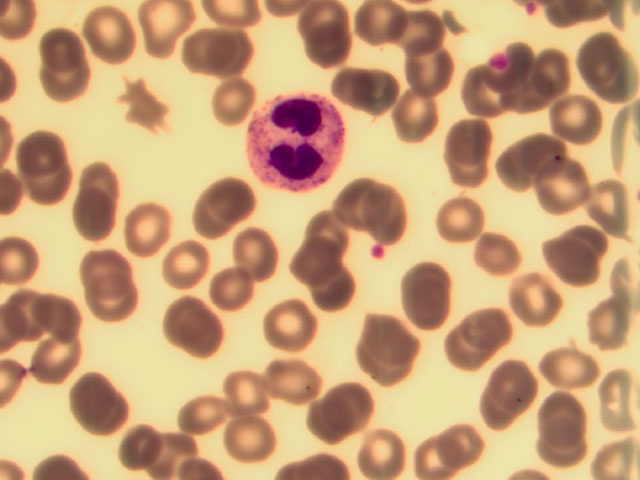Platelets: (369, 242, 385, 262)
RBC: (64, 150, 128, 213), (118, 196, 182, 259), (198, 170, 262, 233), (177, 191, 241, 254), (185, 75, 249, 138), (159, 22, 223, 85), (200, 19, 264, 82), (295, 2, 359, 65), (318, 45, 382, 108), (382, 86, 446, 149), (392, 39, 456, 102), (445, 66, 509, 129), (475, 37, 539, 100), (521, 42, 585, 105), (544, 91, 608, 154), (502, 125, 566, 188), (532, 150, 596, 213), (437, 123, 501, 186), (431, 194, 495, 257), (469, 218, 533, 281), (505, 273, 569, 336), (544, 231, 608, 294), (576, 308, 640, 371), (538, 335, 602, 398), (493, 345, 557, 408), (476, 377, 540, 440), (534, 385, 598, 448), (404, 268, 468, 331), (441, 292, 505, 355), (360, 310, 424, 373), (354, 176, 418, 239), (328, 177, 392, 240), (294, 199, 358, 262), (300, 258, 364, 321), (262, 295, 326, 358), (222, 218, 286, 281), (212, 245, 276, 308), (156, 239, 220, 302), (157, 286, 221, 349), (170, 314, 234, 377), (69, 237, 133, 300), (84, 282, 148, 345), (13, 286, 77, 349), (28, 324, 92, 387), (65, 375, 129, 438), (174, 384, 238, 447), (207, 354, 271, 417), (217, 400, 281, 463), (268, 356, 332, 419), (294, 389, 358, 452), (321, 369, 385, 432), (427, 416, 491, 479), (340, 417, 404, 480), (108, 416, 172, 479), (130, 1, 194, 63), (347, 1, 411, 63), (38, 60, 94, 120), (83, 10, 139, 70), (110, 70, 166, 130), (38, 26, 85, 75), (589, 438, 640, 480)
WBC: (249, 91, 343, 190)
